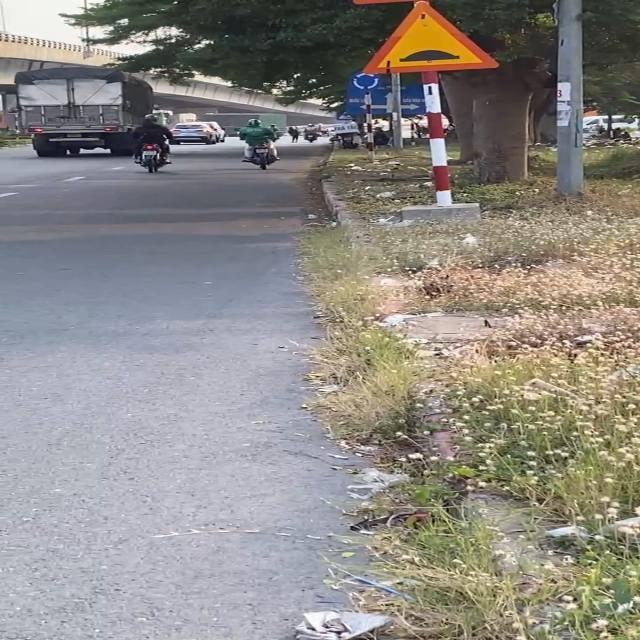221-duong-go-ghe: (360, 1, 506, 74)
303-noi-giao-nhau-chay-theo-vong-xuyen: (350, 70, 382, 92)
